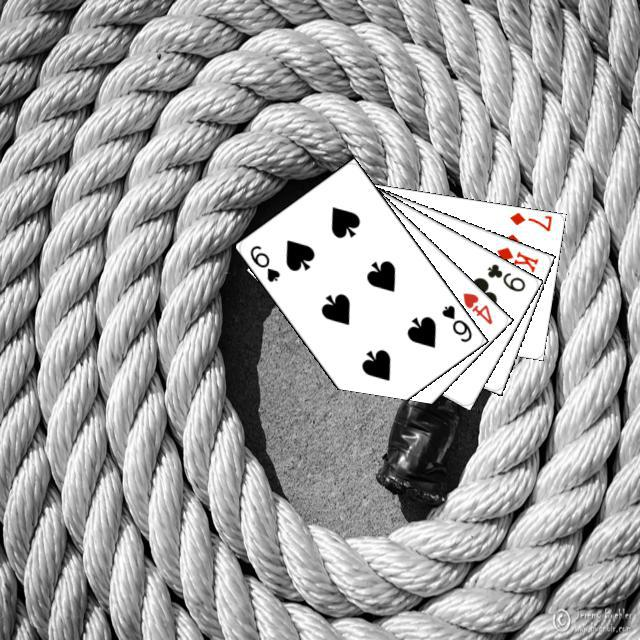4h: (458, 288, 494, 326)
6s: (437, 300, 474, 344), (245, 240, 282, 284)
7d: (505, 207, 553, 233)
9c: (482, 259, 527, 294)
Kd: (492, 242, 540, 274)
